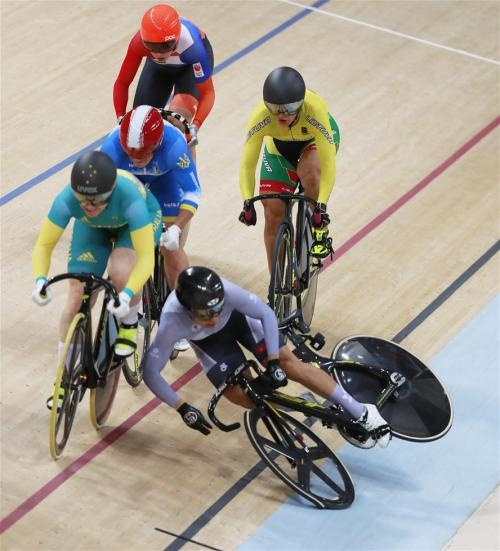falling: (142, 262, 398, 453)
